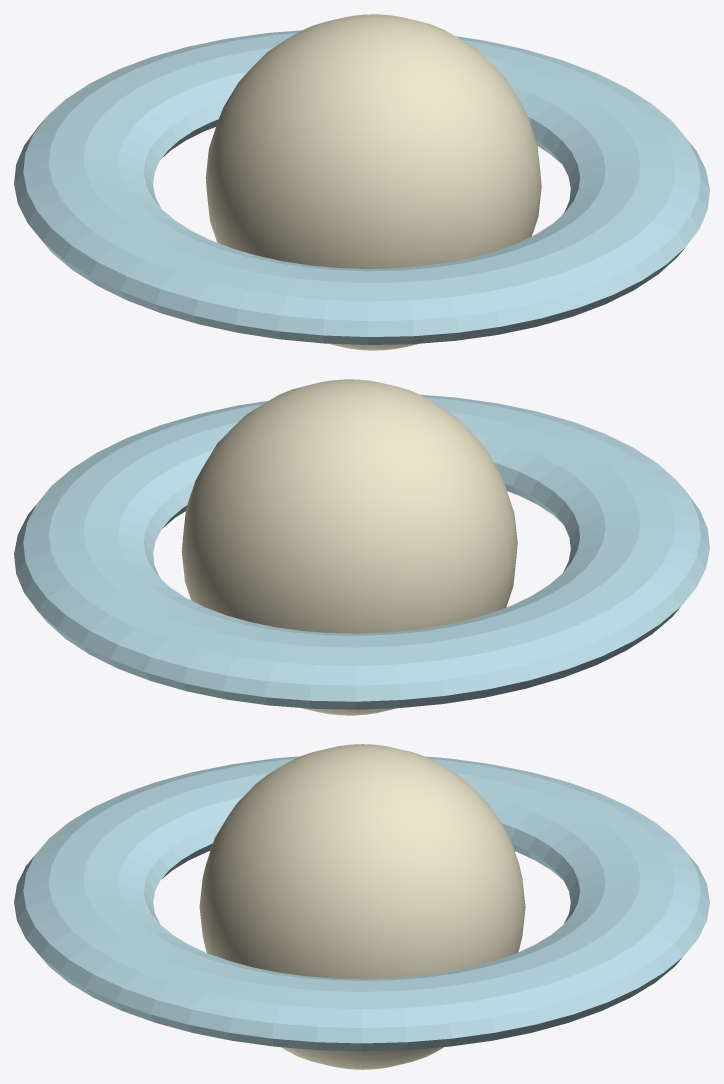
Rendered from saturn.glb.
3 views of the same model, one above another, from view 1: azimuth 30°, elevation 25°; view 2: azimuth 150°, elevation 25°; view 3: azimuth 270°, elevation 25° (orthographic). The views are drawn at different scales.
Visible parts, largest first — view 1: Torus, Sphere.002; view 2: Torus, Sphere.002; view 3: Torus, Sphere.002.
Part boxes in pixels (x1=…): Torus: x1=14, y1=30, x2=709, y2=344; Sphere.002: x1=205, y1=14, x2=541, y2=350; Torus: x1=14, y1=394, x2=709, y2=709; Sphere.002: x1=181, y1=379, x2=517, y2=715; Torus: x1=14, y1=756, x2=709, y2=1051; Sphere.002: x1=199, y1=744, x2=525, y2=1069.
Bounding box in the file's own units: 4.16 × 2.04 × 4.34.
